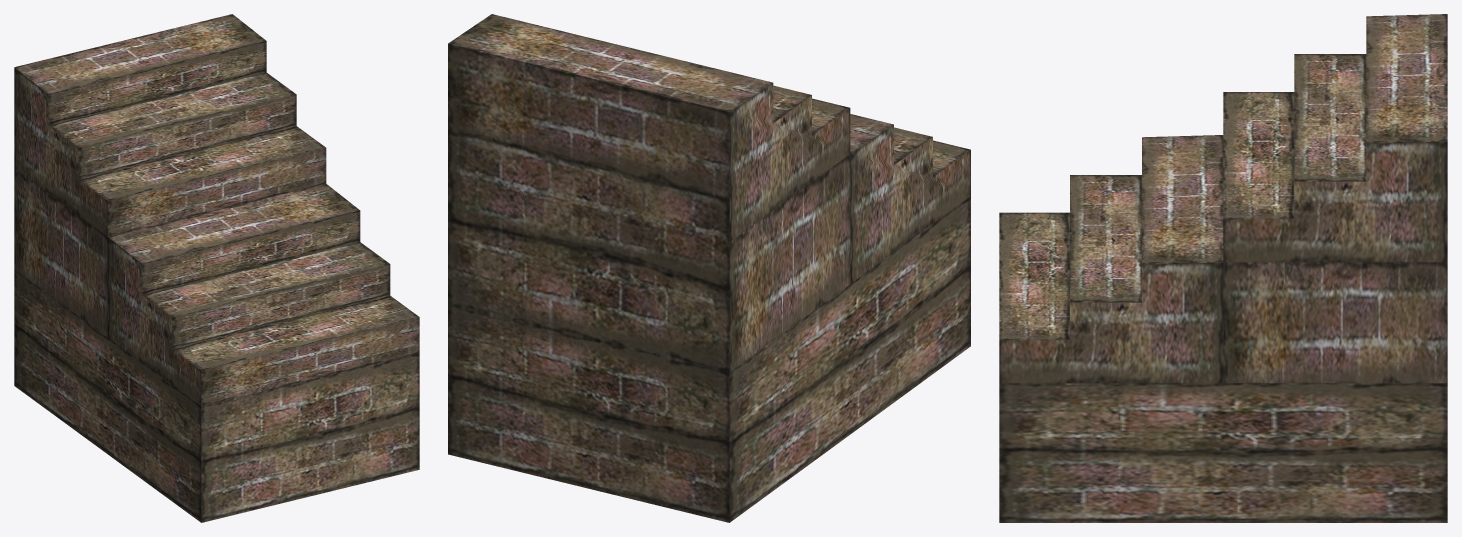
File: brick_stairs_single.fbx
The picture shows the model from 3 angles, left to right: view 1: azimuth 30°, elevation 25°; view 2: azimuth 150°, elevation 25°; view 3: azimuth 270°, elevation 25°; orthographic projection. The views are drawn at different scales.
Parts seen in each view (by area): view 1: brick_stairs1, nurbsToPoly3; view 2: nurbsToPoly3, polySurface5, brick_stairs1; view 3: brick_stairs1, nurbsToPoly3.
Boxes of the visible parts, <box> form: brick_stairs1: <box>14,14,419,406</box>; nurbsToPoly3: <box>14,269,419,522</box>; nurbsToPoly3: <box>448,196,970,522</box>; polySurface5: <box>448,43,729,372</box>; brick_stairs1: <box>448,14,970,371</box>; brick_stairs1: <box>999,14,1447,383</box>; nurbsToPoly3: <box>999,383,1447,522</box>.
Bounding box in the file's own units: 750 × 1046 × 1114.
Materials: 1 (1 with a texture image).
